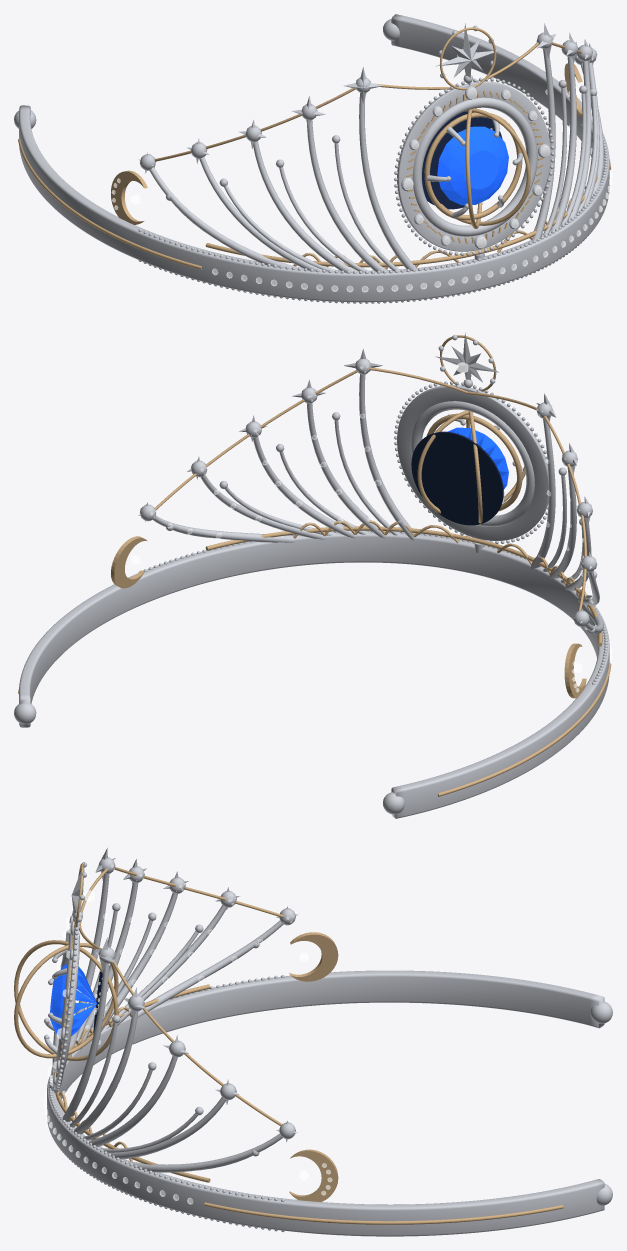
Rendered from observatory-diadem.glb.
3 renders of one model, top to bottom at view 1: azimuth 30°, elevation 25°; view 2: azimuth 150°, elevation 25°; view 3: azimuth 270°, elevation 25°, orthographic.
Parts seen in each view (by area): view 1: Diadem_Silver, Diadem_Bronze, Diadem_Sapphire, Diadem_Crystals, Diadem_Enamel; view 2: Diadem_Silver, Diadem_Bronze, Diadem_Enamel, Diadem_Crystals, Diadem_Sapphire; view 3: Diadem_Silver, Diadem_Bronze, Diadem_Crystals, Diadem_Sapphire.
Part boxes in pixels (x1,y1,x2,y2): Diadem_Silver: (14, 14, 609, 303); Diadem_Bronze: (18, 27, 611, 269); Diadem_Sapphire: (437, 126, 508, 205); Diadem_Crystals: (111, 44, 612, 292); Diadem_Enamel: (422, 111, 502, 209); Diadem_Silver: (14, 332, 609, 818); Diadem_Bronze: (18, 335, 611, 796); Diadem_Enamel: (411, 431, 503, 525); Diadem_Crystals: (131, 362, 612, 692); Diadem_Sapphire: (447, 427, 508, 489); Diadem_Silver: (44, 848, 612, 1236); Diadem_Bronze: (14, 863, 563, 1224); Diadem_Crystals: (43, 865, 332, 1204); Diadem_Sapphire: (50, 963, 97, 1036).
Size of the model in its own units: 0.1603 by 0.0804 by 0.1688.
